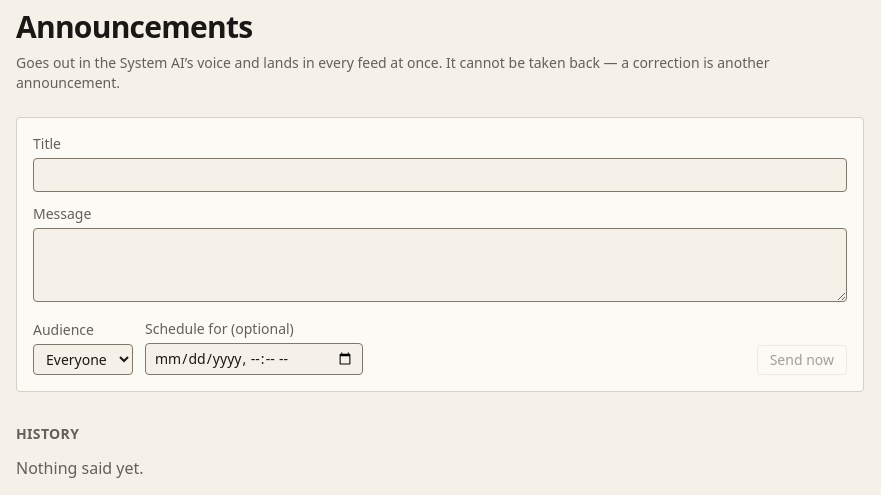
AdminAnnouncementsPage › switches the action to Schedule once a time is set
This screenshot has width=881, height=495.
Type "Later" into the field named "Announcement title".
click(440, 175); type("Later")  # box [33,158,847,192]
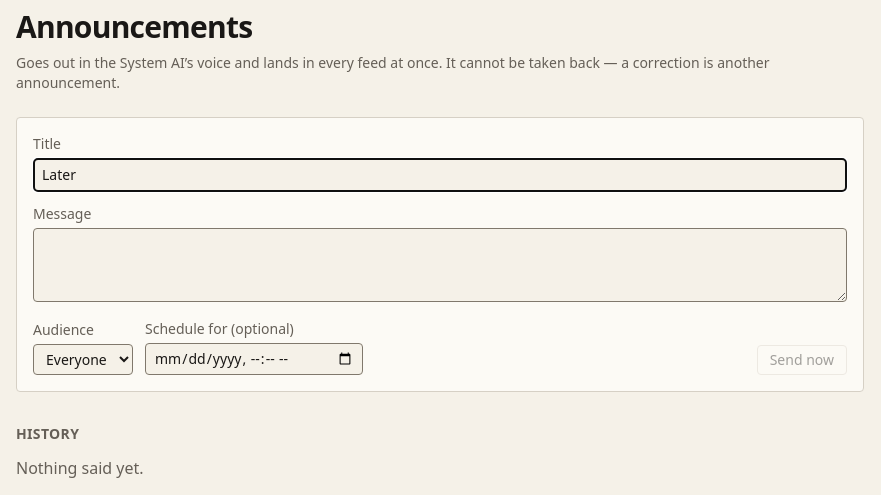
Type "Not yet." into the text box named "Announcement message".
click(440, 265); type("Not yet.")  # box [33,228,847,302]
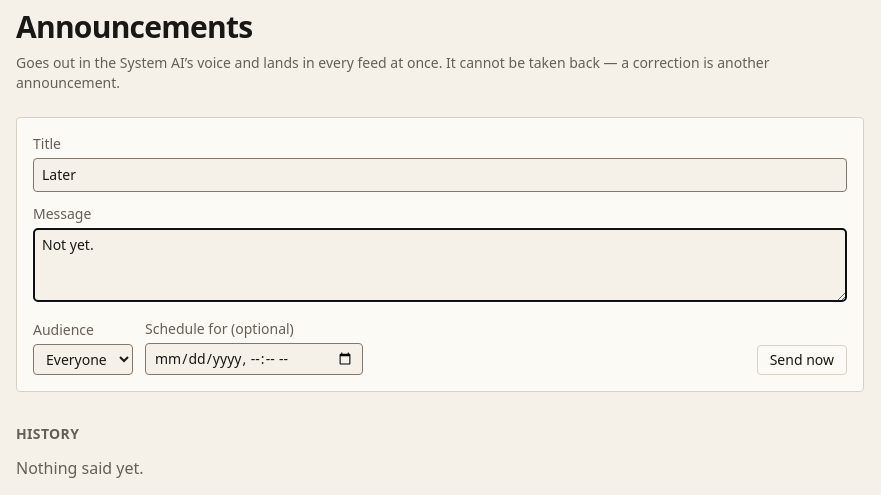
Type "2026-09-18T09:00" into the field labelled "Schedule for".
click(254, 359); type("2026-09-18T09:00")  # box [145,343,363,375]
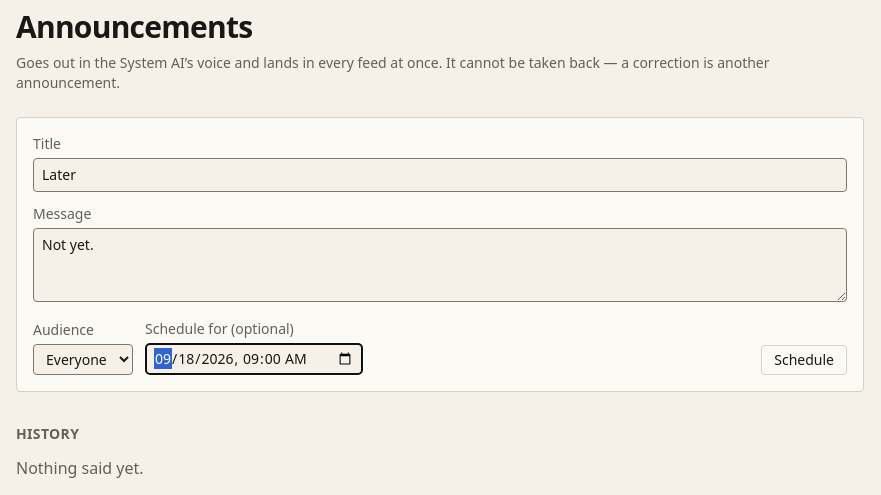
Expected: the button "Schedule" is shown, [761,345,847,375]
